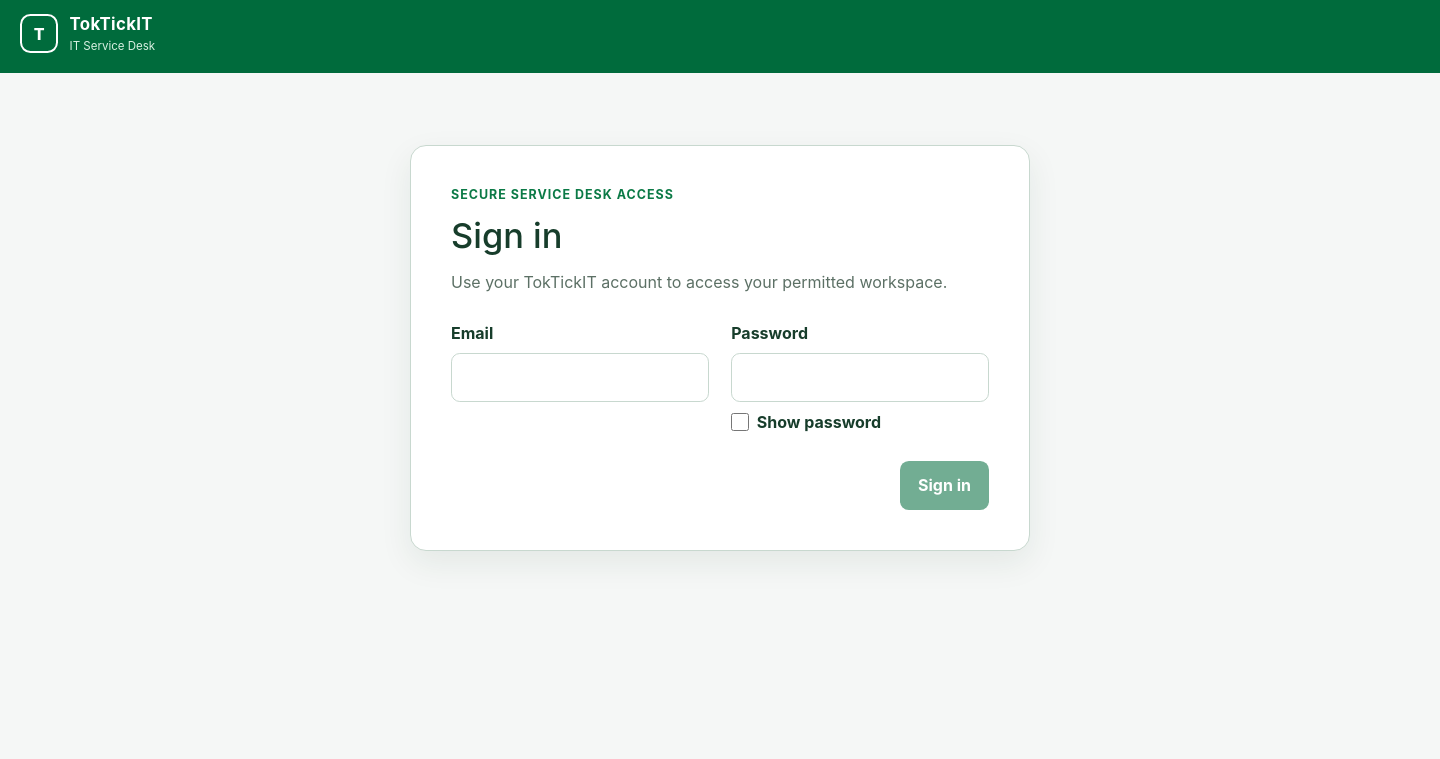
Test: Create Ticket › shows a safe reference-data failure and retries successfully
This screenshot has width=1440, height=759.
Type "amina@example.test" into the field labelled "Email" at (580, 378), box [451,353,709,402]
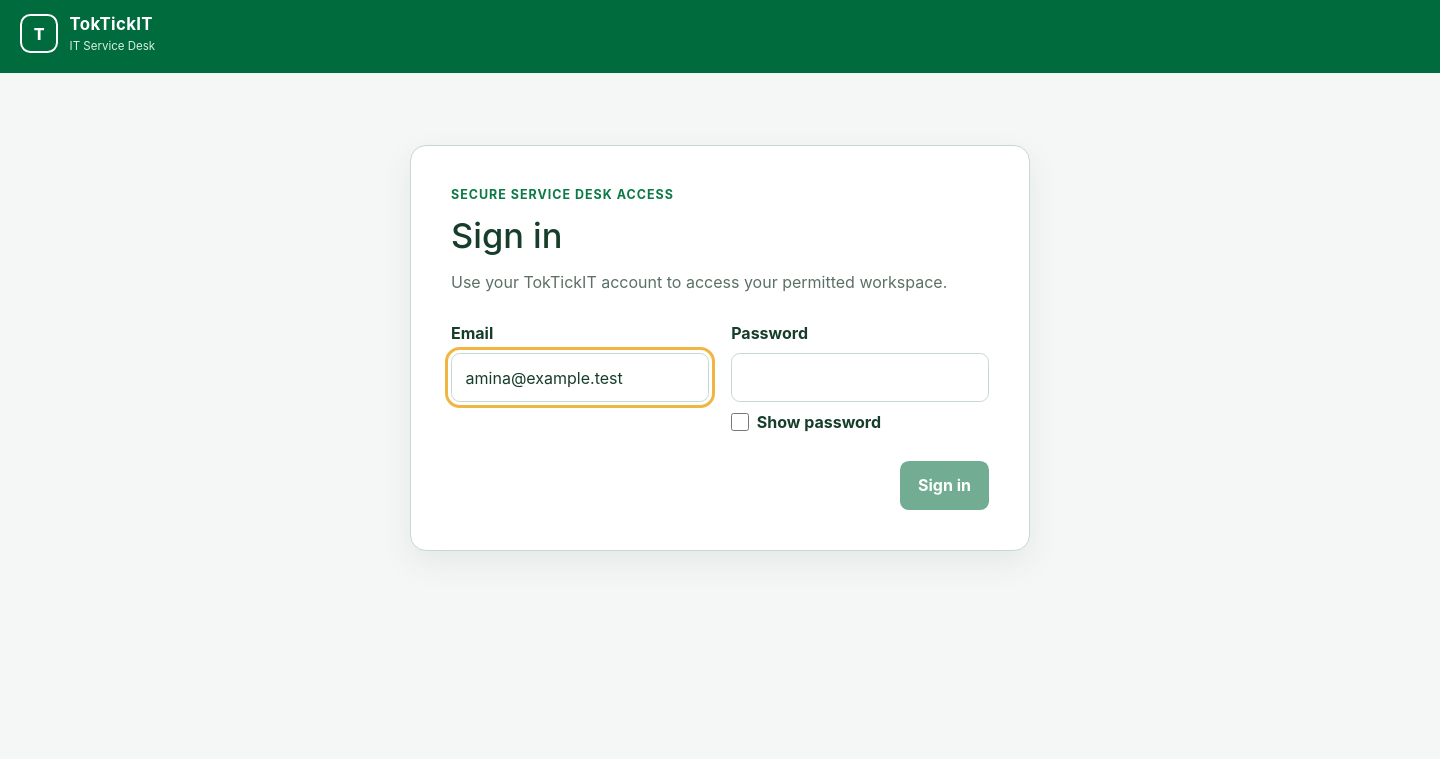
Type "Initial-Lab3!Password" into the password field labelled "Password" at (860, 378), box [731,353,989,402]
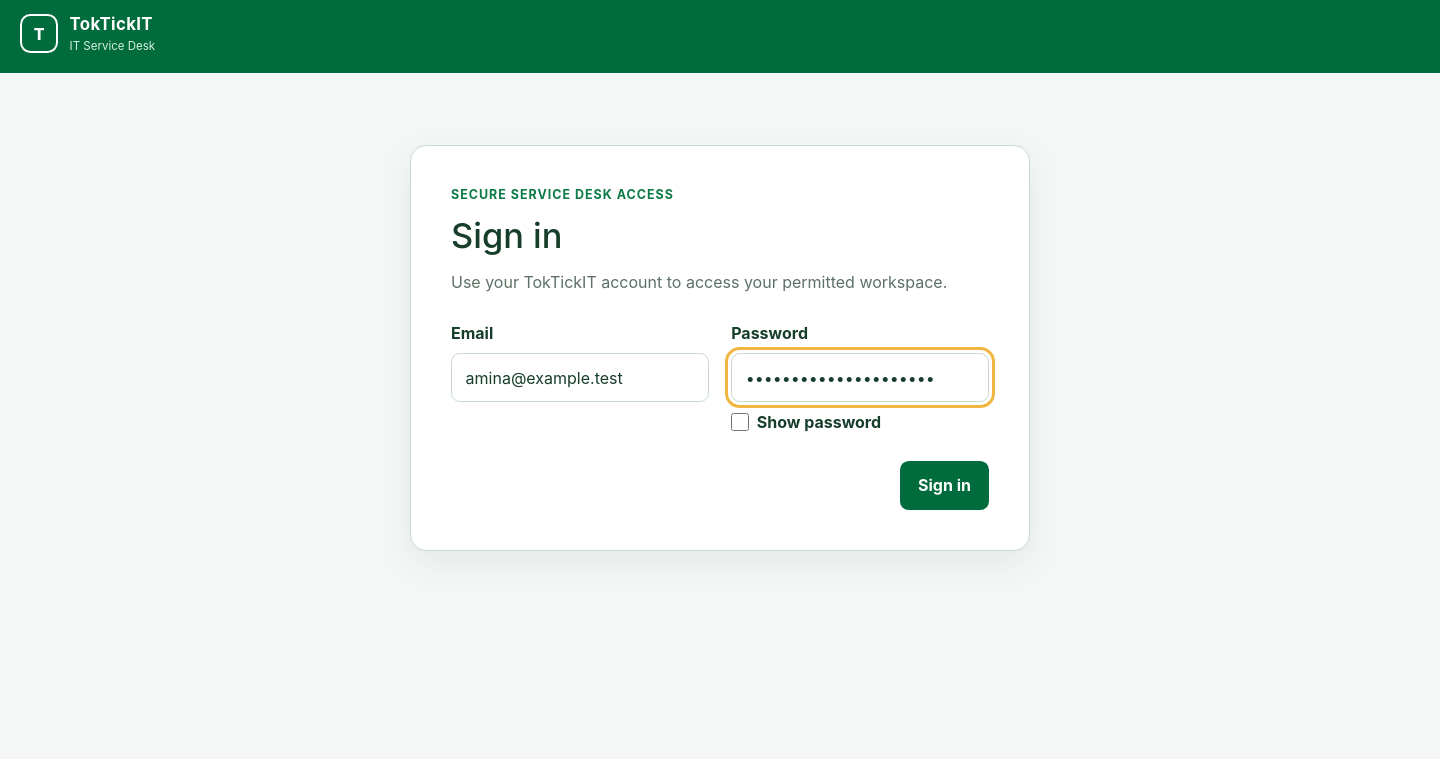
Click the button "Sign in" at (944, 485), box [900,461,989,510]
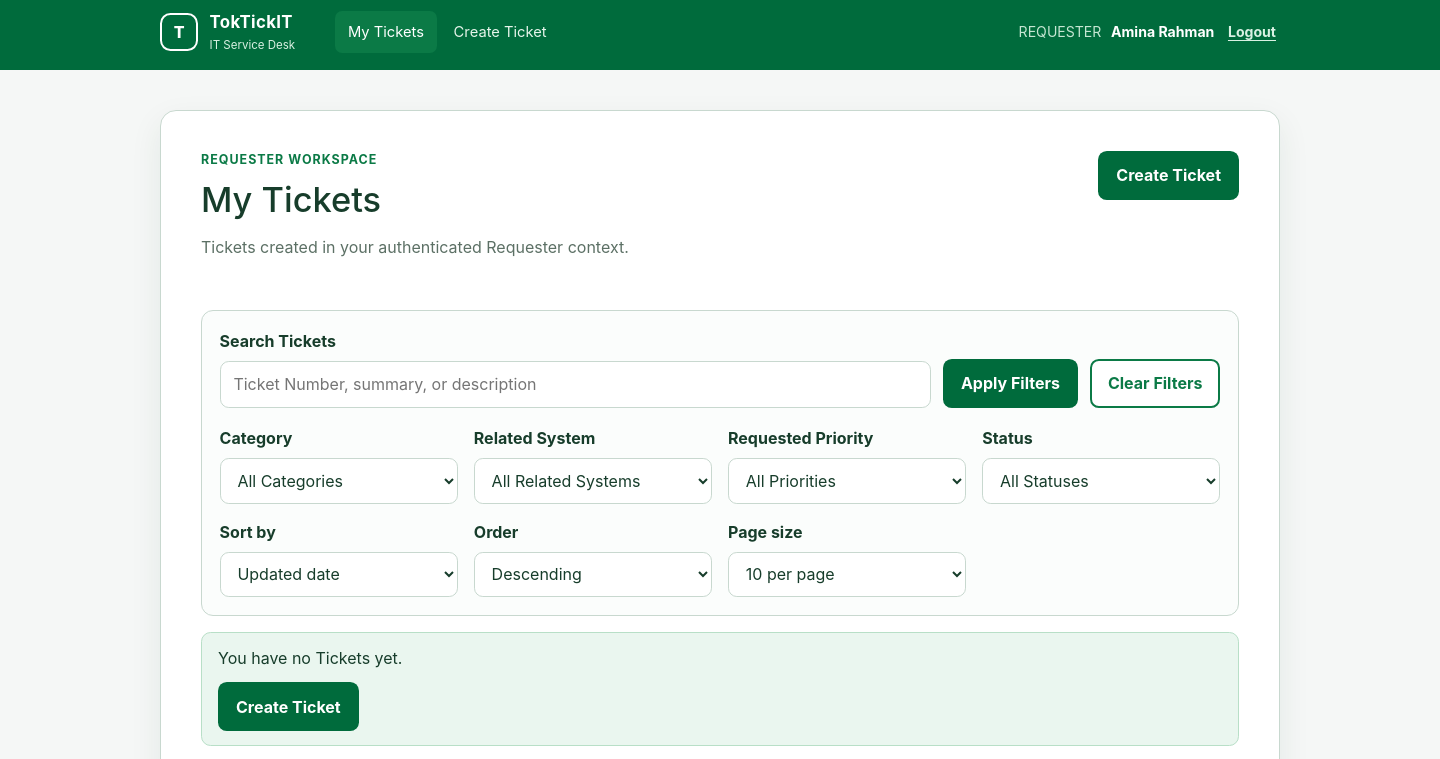
Click the link with aria-label "Create Ticket from My Tickets" at (1169, 175), box [1098,151,1239,200]
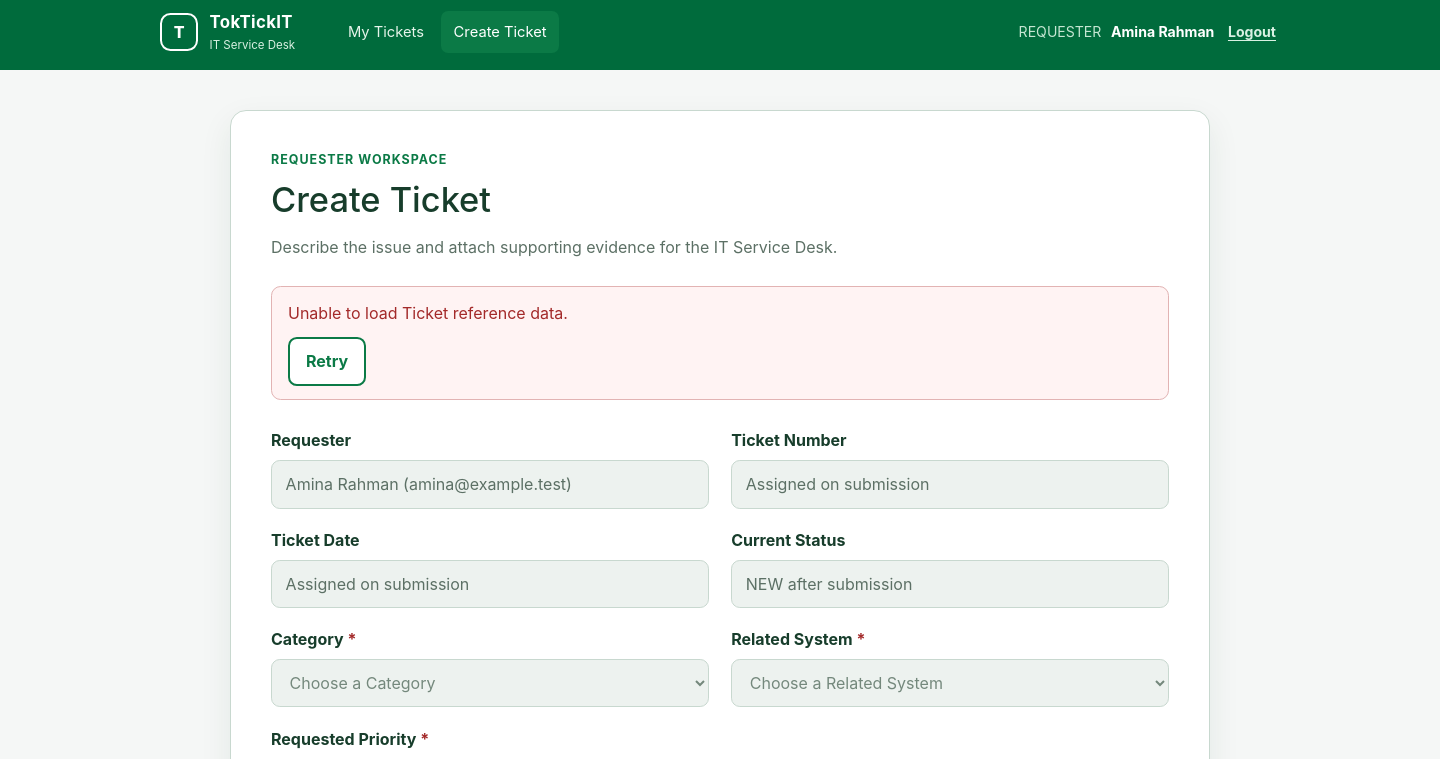
Expected: the heading "Create Ticket" is shown, [271,179,491,220]
Expected: the message named "Reference data loading error" shows "Unable to load Ticket reference data.", [288,303,568,323]
Click the button "Retry" at (327, 361), box [288,337,366,386]
(page scrolled)
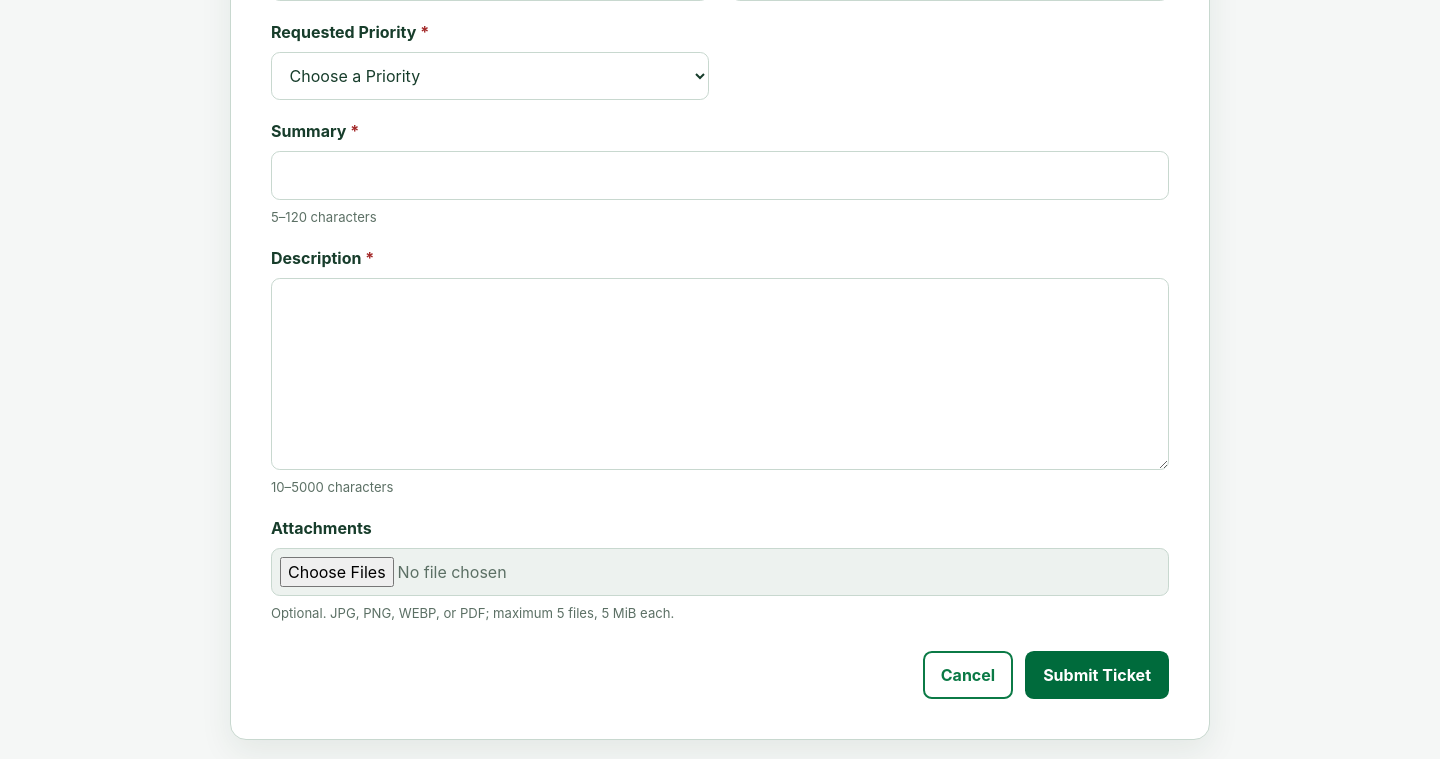
Expected: the button "Submit Ticket" is enabled, [1025,650,1169,699]
